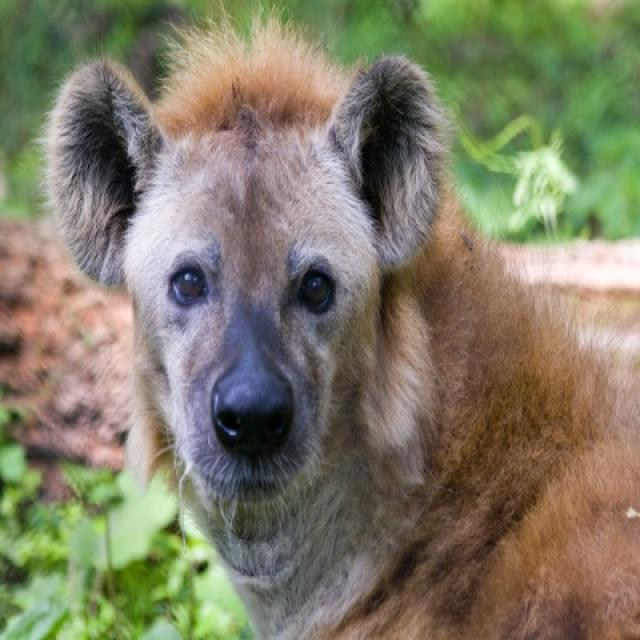hyena: (45, 24, 638, 638)
